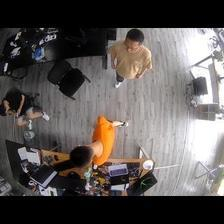normal: (72, 113, 128, 166), (107, 29, 151, 89)
